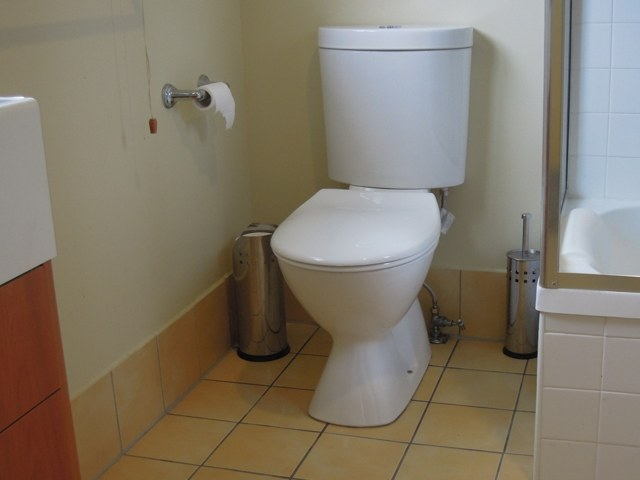toilet_paper: (192, 82, 235, 130)
